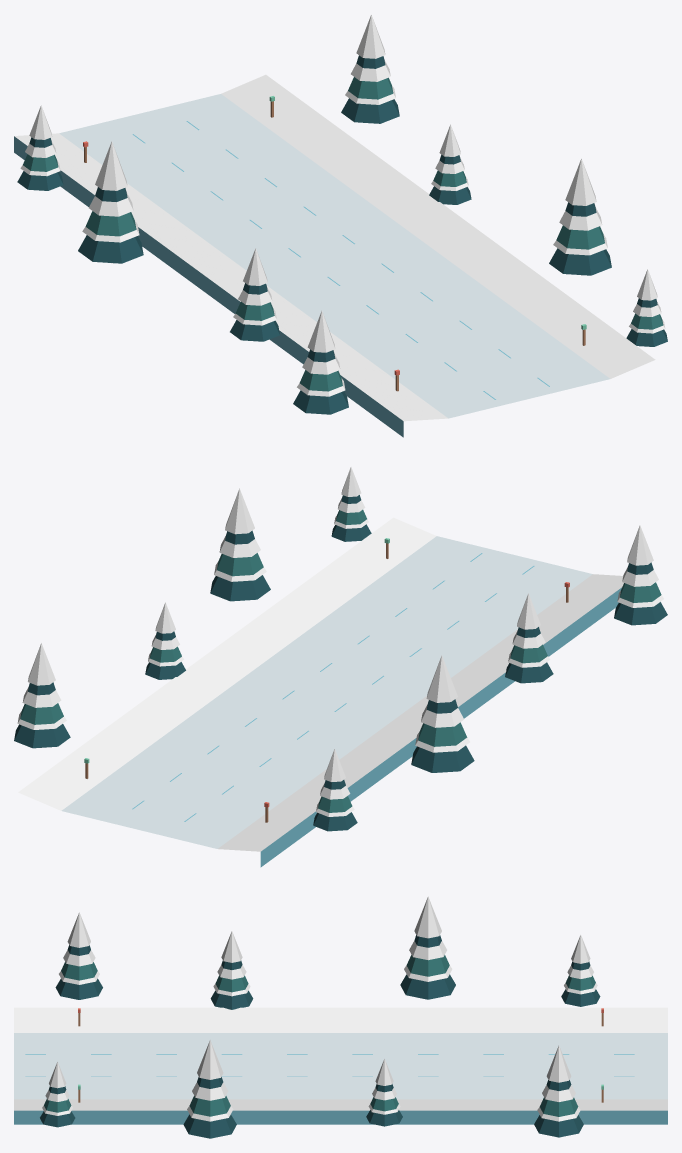
The model's file is forest.glb.
3 views of the same model, one above another, from view 1: azimuth 30°, elevation 25°; view 2: azimuth 150°, elevation 25°; view 3: azimuth 270°, elevation 25° (orthographic). The views are drawn at different scales.
Visible parts, largest first — view 1: Tile_forest; view 2: Tile_forest; view 3: Tile_forest.
Part boxes in pixels (<box>): Tile_forest: <box>14,14,667,437</box>; Tile_forest: <box>14,467,667,867</box>; Tile_forest: <box>14,896,667,1138</box>.
Size of the model in its own units: 17.55 by 5.4 by 30.
